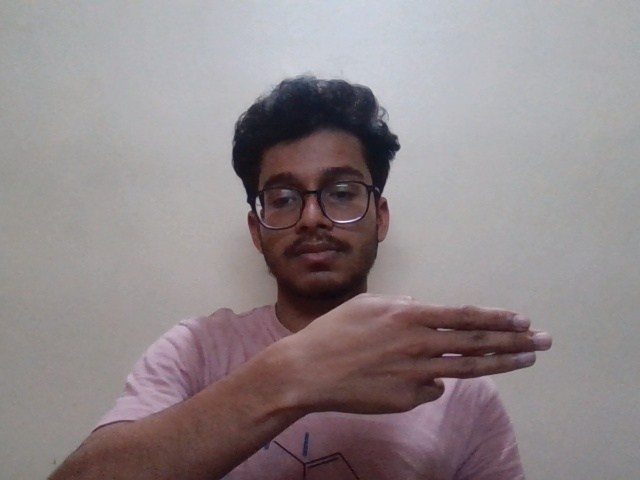wednesday: (259, 281, 561, 434)
